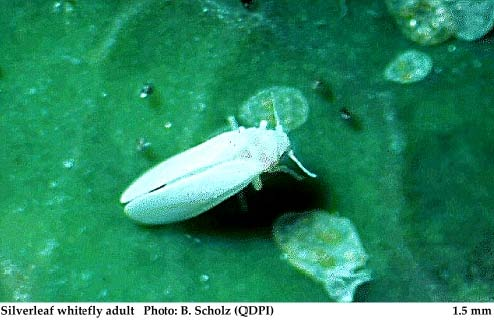whitefly: (117, 92, 318, 229)
